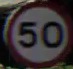Speed limit: (6, 5, 67, 60)
